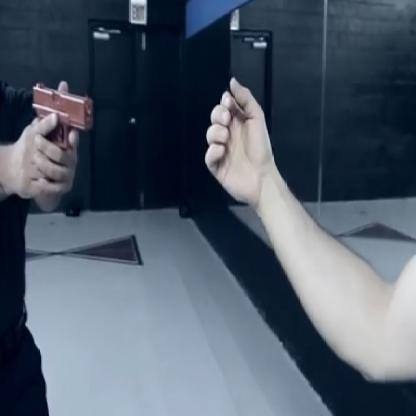gun: (30, 78, 95, 155)
